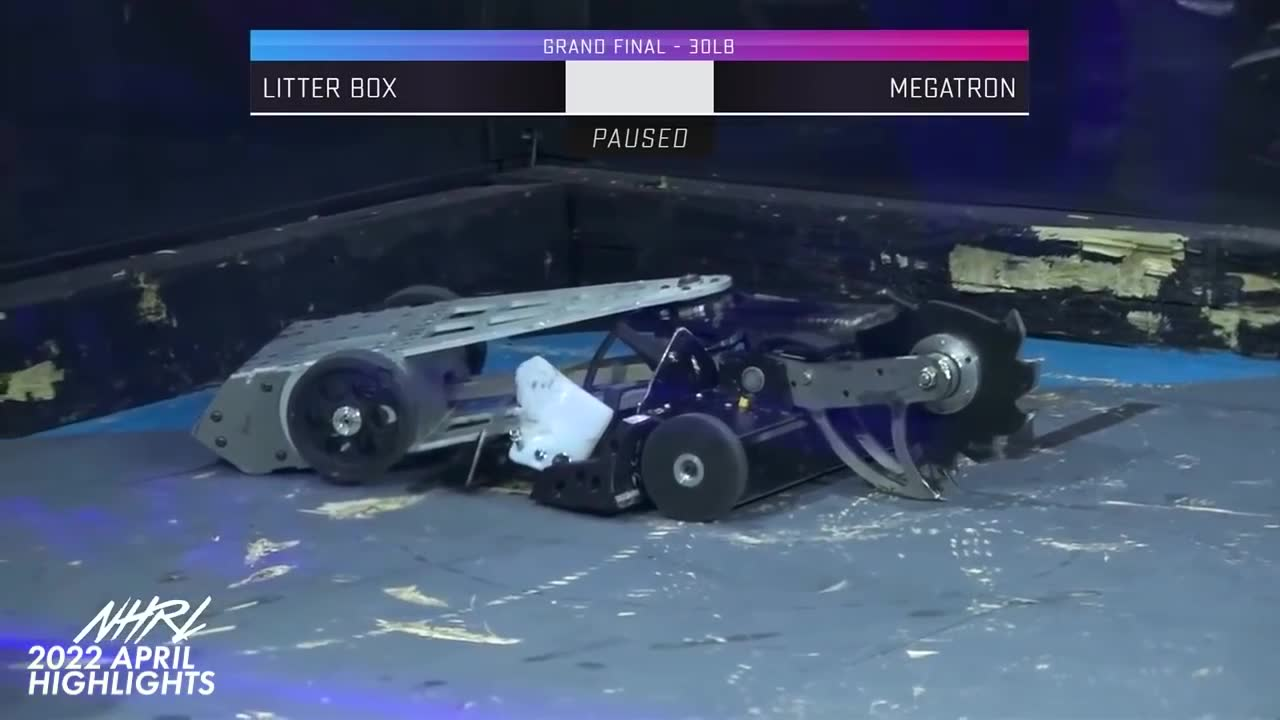combatbot: (206, 273, 733, 490), (646, 282, 1036, 526)
